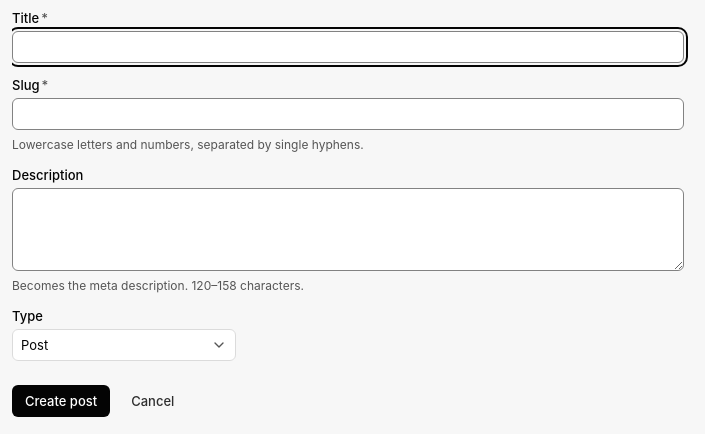
Test case: NewDocumentForm › the slug › resumes following the title when the author empties the field
Type "Draft one" into the field labelled "Title*" at x=348, y=47, box top-left (12, 31), bottom-right (684, 63)
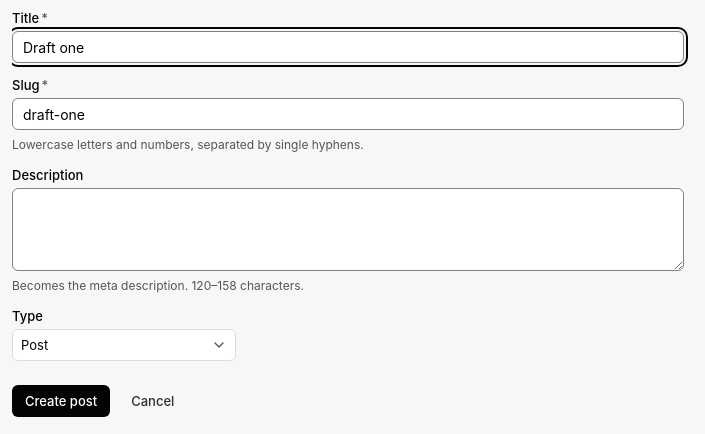
Replace the text in the field labelled "Slug*" with "mine" at x=348, y=114, box top-left (12, 98), bottom-right (684, 130)
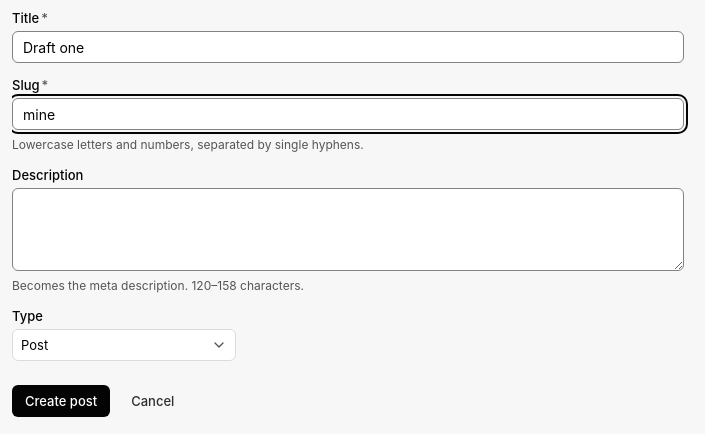
Clear the field labelled "Slug*" at x=348, y=114, box top-left (12, 98), bottom-right (684, 130)
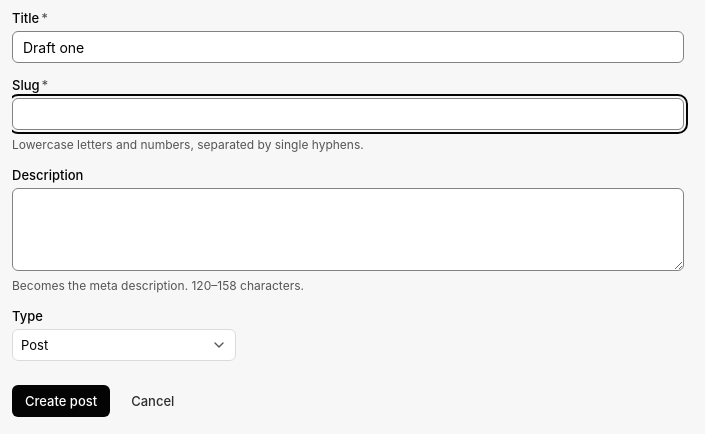
Type "!" into the field labelled "Title*" at x=348, y=47, box top-left (12, 31), bottom-right (684, 63)
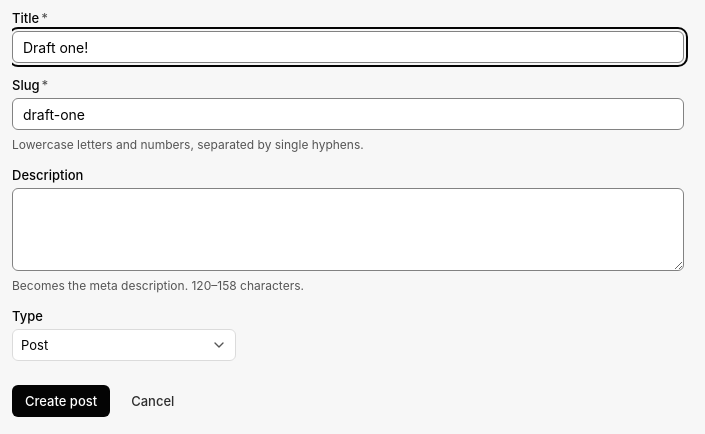
Check: the field labelled "Slug*" holds "draft-one", box top-left (12, 98), bottom-right (684, 130)
